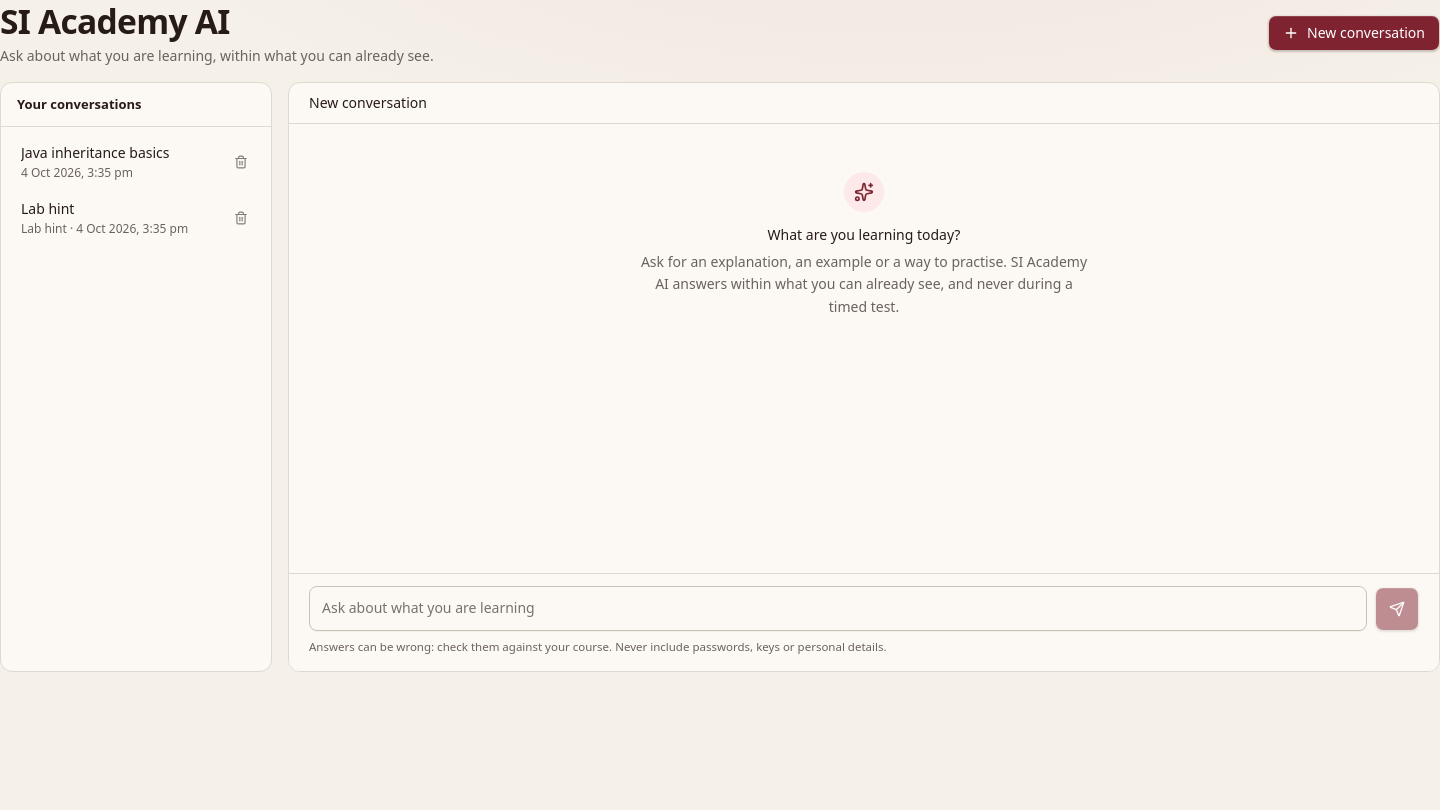
Test: the SI Academy AI workspace (Phase 7E) › deletes a conversation after asking, and it disappears at once — before the server answers
Later steps or results of the test are not shown.
expect the text "Java inheritance basics" is shown: met, box 21,144 -> 170,162
Click the button named "Delete “Java inheritance basics”".
click(241, 162)  # box 227,148 -> 255,176
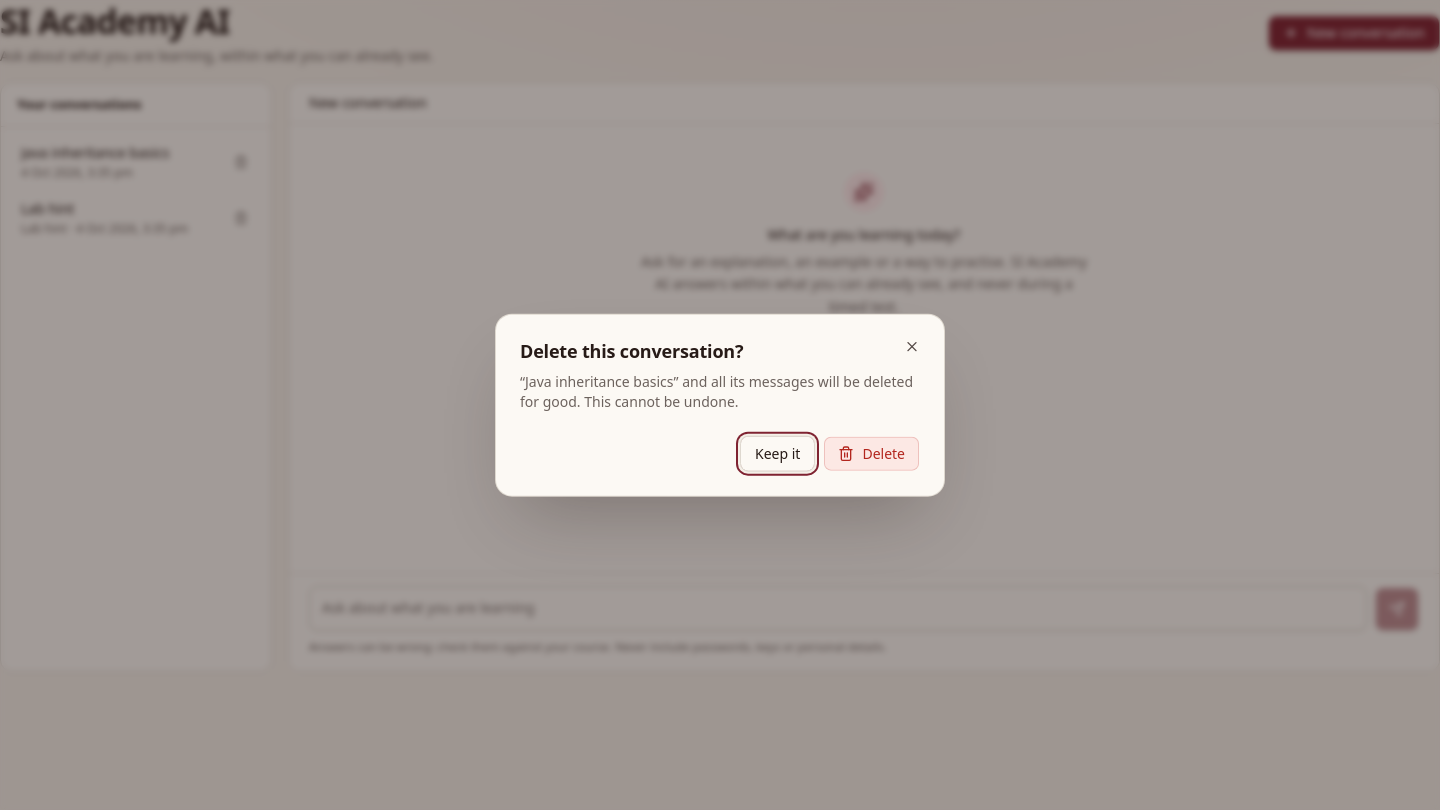
expect the heading "Delete this conversation?" is shown: met, box 520,339 -> 743,363
